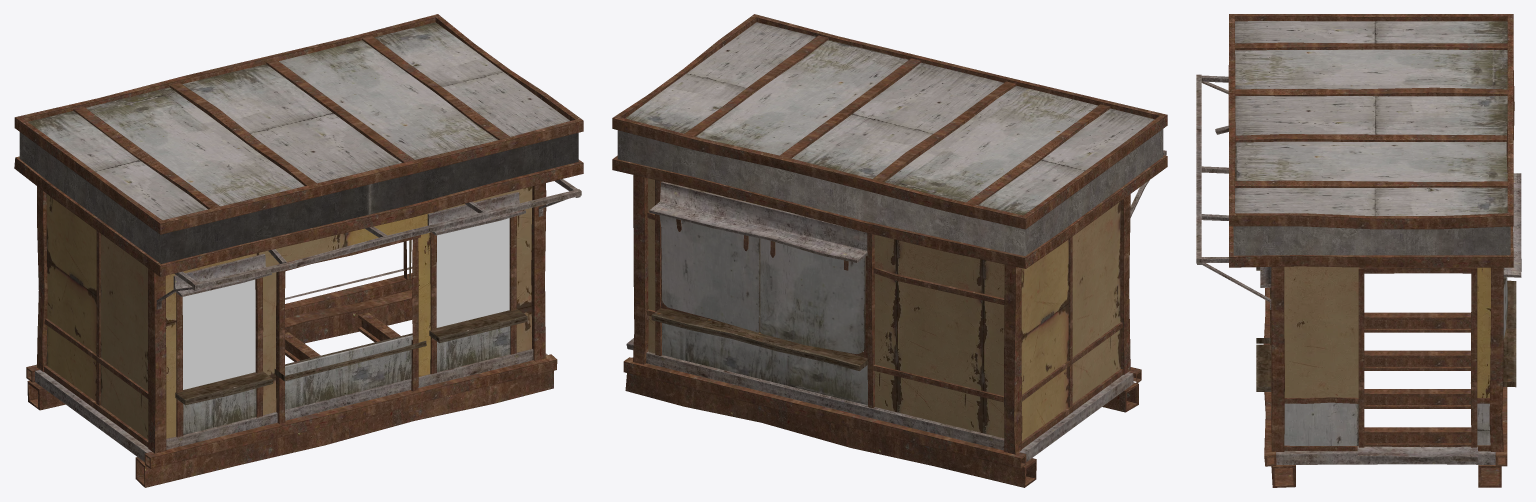
Rendered from rentable_shop_a_exterior.glb.
3 views of the same model, side by side, from view 1: azimuth 30°, elevation 25°; view 2: azimuth 150°, elevation 25°; view 3: azimuth 270°, elevation 25° (orthographic). The views are drawn at different scales.
Parts seen in each view (by area): view 1: rentable_shop_A_exterior_LOD0; view 2: rentable_shop_A_exterior_LOD0; view 3: rentable_shop_A_exterior_LOD0.
Boxes of the visible parts, x1,y1,x2,y2 form: rentable_shop_A_exterior_LOD0: [14, 14, 583, 487]; rentable_shop_A_exterior_LOD0: [612, 14, 1167, 487]; rentable_shop_A_exterior_LOD0: [1196, 14, 1521, 487].
Bounding box in the file's own units: 5.25 × 3.34 × 3.55.
Materials: 5 (4 with a texture image).
